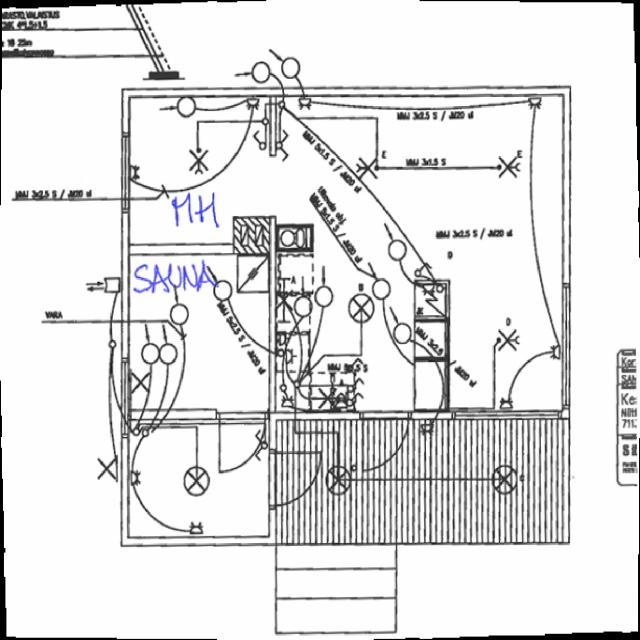door: (218, 410, 265, 472), (269, 452, 323, 505), (363, 410, 407, 470)
